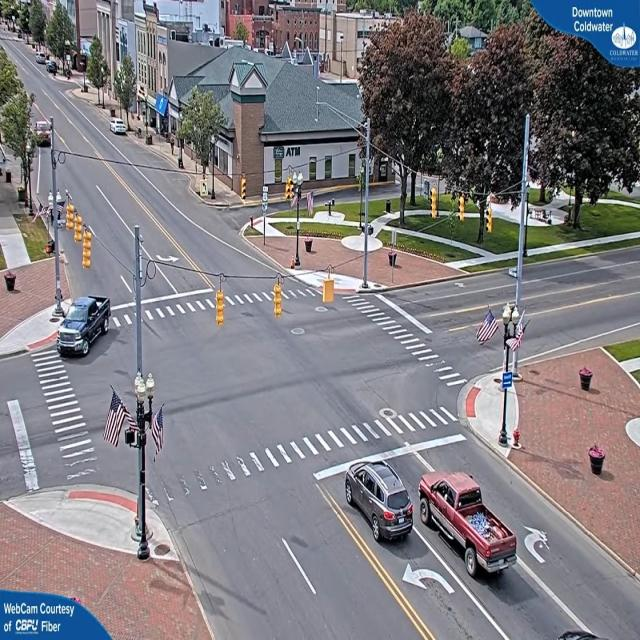car: (418, 474, 515, 582), (346, 458, 415, 543), (56, 295, 111, 359), (110, 120, 128, 136)
